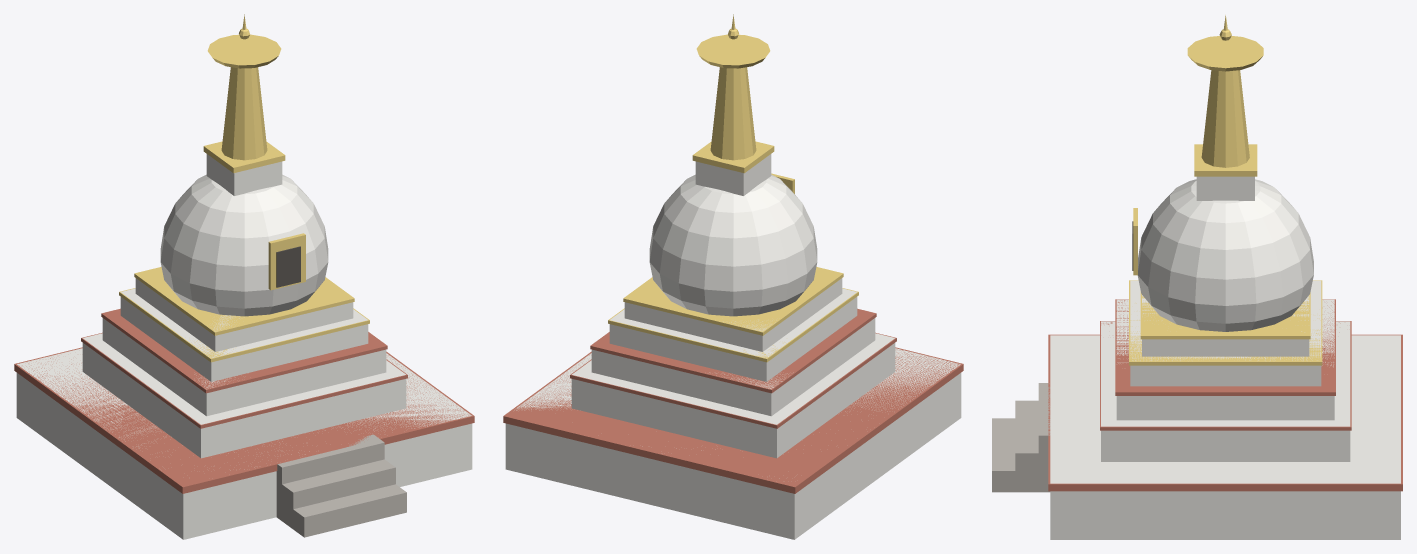
3 renders of one model, left to right at view 1: azimuth 30°, elevation 25°; view 2: azimuth 150°, elevation 25°; view 3: azimuth 270°, elevation 25°, orthographic. The views are drawn at different scales.
Visible parts, largest first — view 1: WB_chorten; view 2: WB_chorten; view 3: WB_chorten.
Boxes of the visible parts, bbox=[...] form: WB_chorten: bbox=[14, 14, 474, 539]; WB_chorten: bbox=[503, 14, 963, 539]; WB_chorten: bbox=[992, 15, 1402, 539].
Size of the model in its own units: 9.1 by 12.8 by 10.55.
